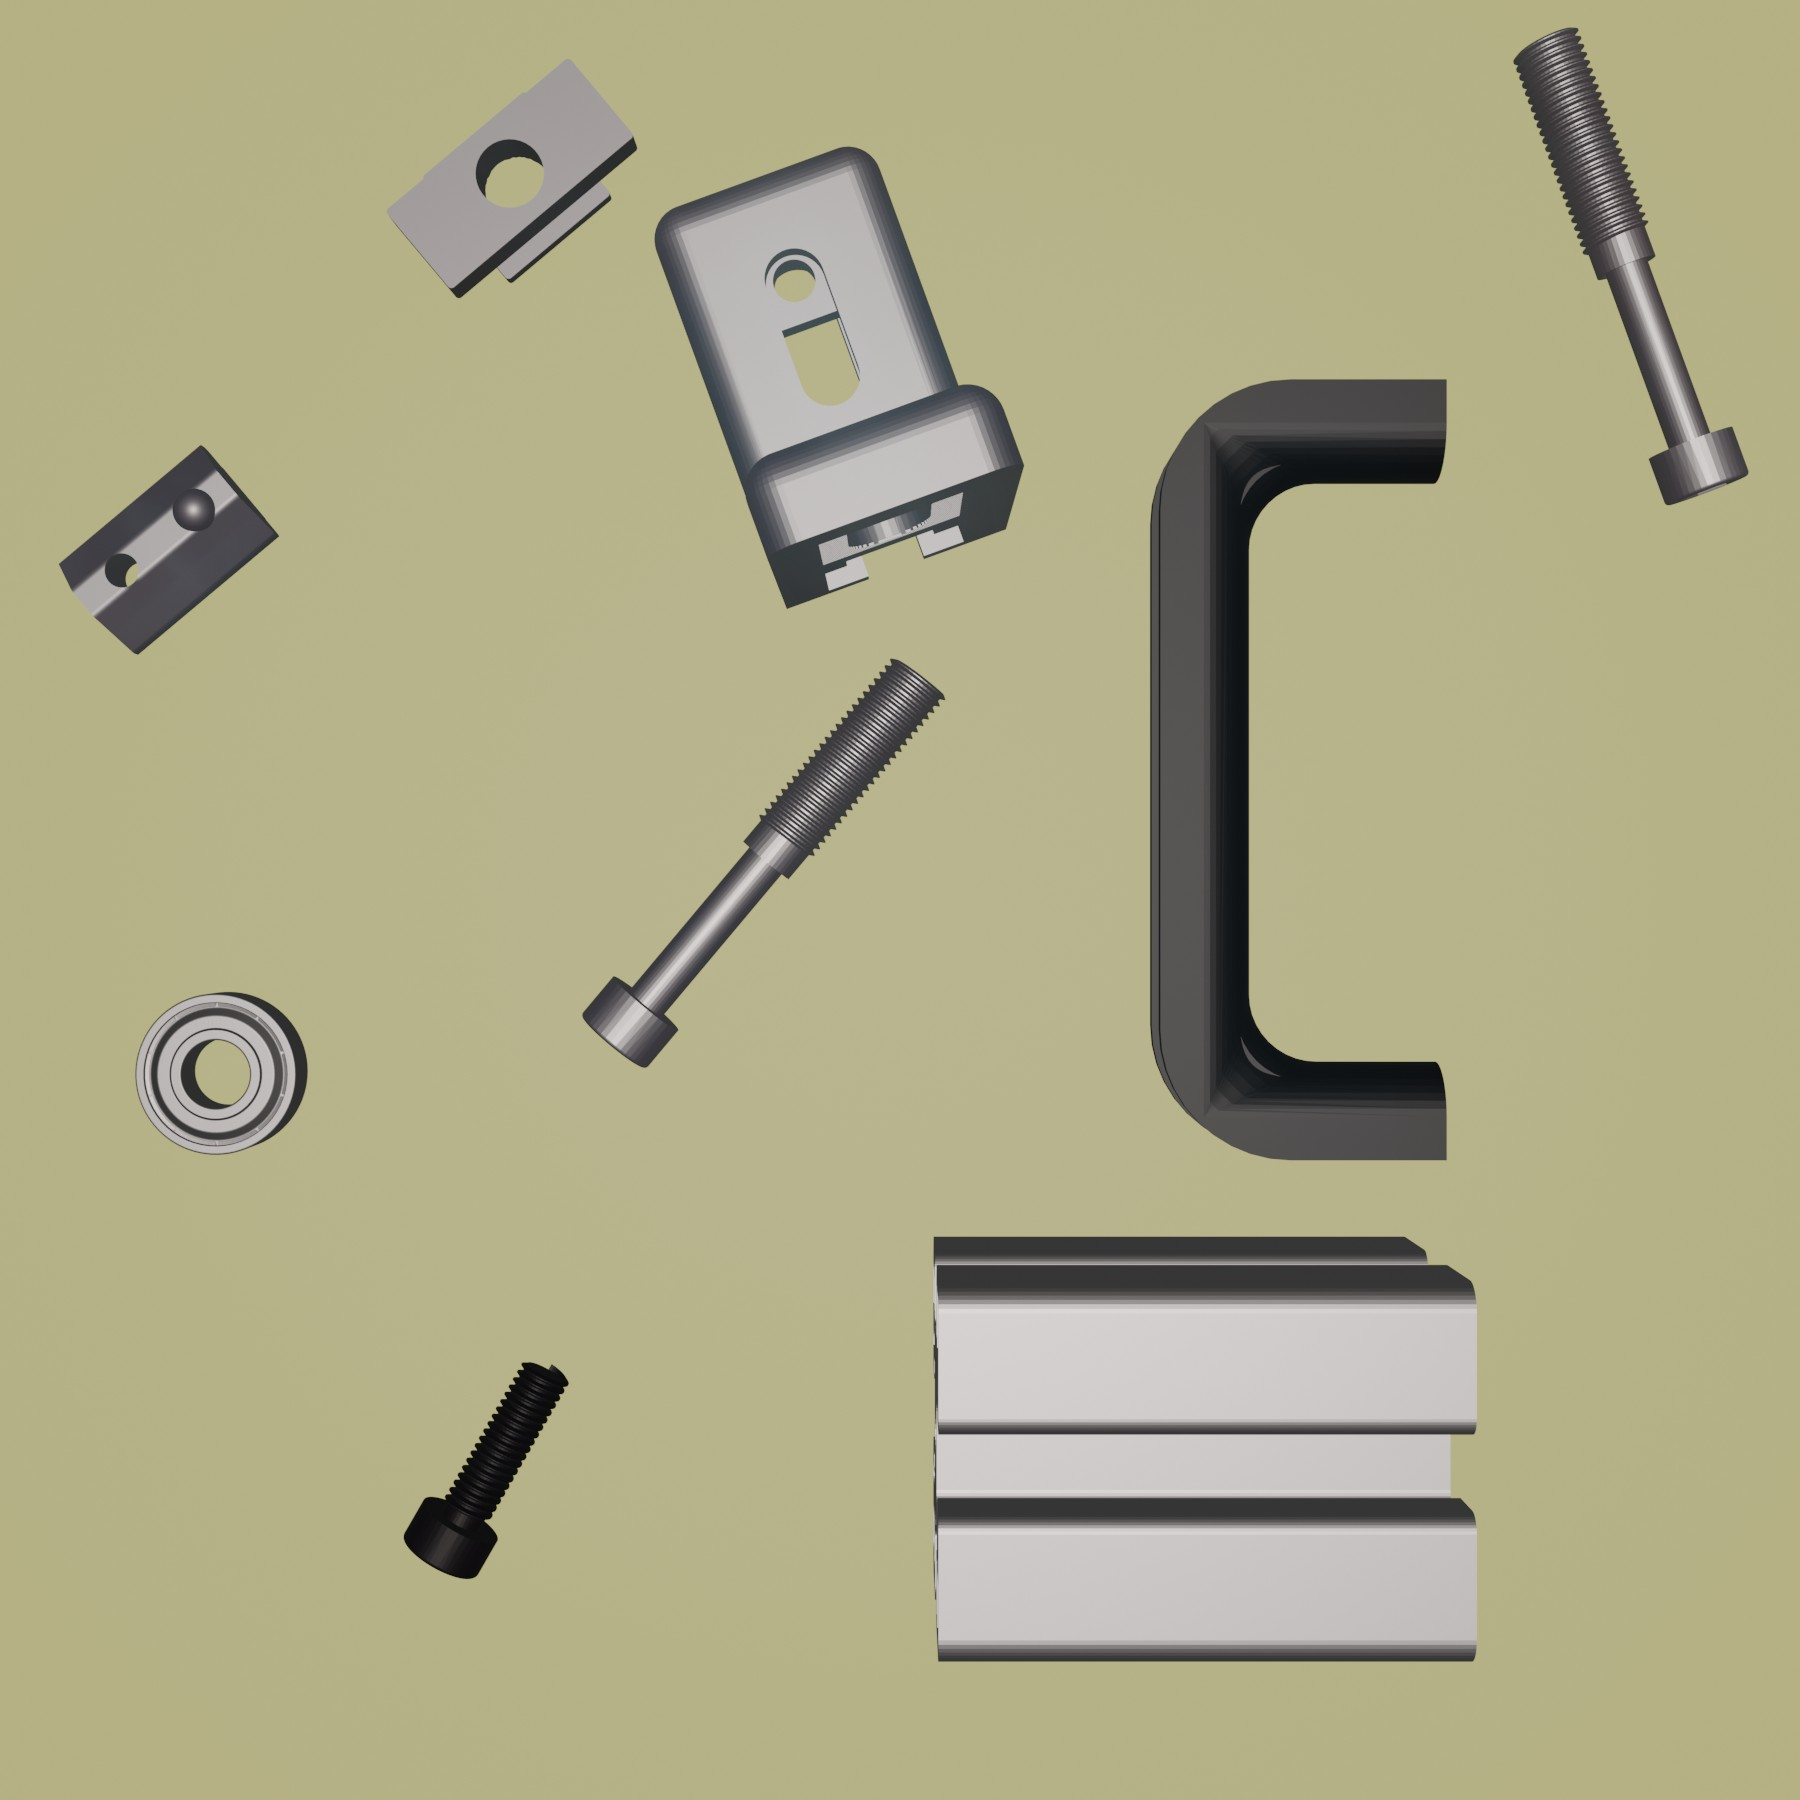Aluminium Extension: (923, 1228, 1482, 1668)
Ball Bearing: (134, 987, 312, 1157)
Multiwinkel: (649, 142, 1027, 613)
Pull Handle: (1142, 376, 1454, 1169)
Shoulder Socket Head Cap Screw: (580, 654, 946, 1068), (1512, 23, 1751, 509)
Socket Head Cap Screw: (402, 1357, 567, 1581)
T Nut Square: (386, 54, 640, 303)
T Spring Nut: (54, 443, 279, 659)
